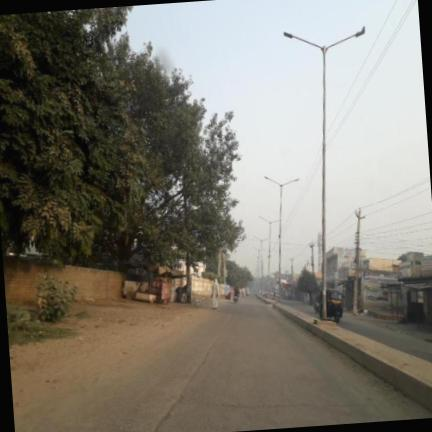Road: (14, 297, 431, 431)
